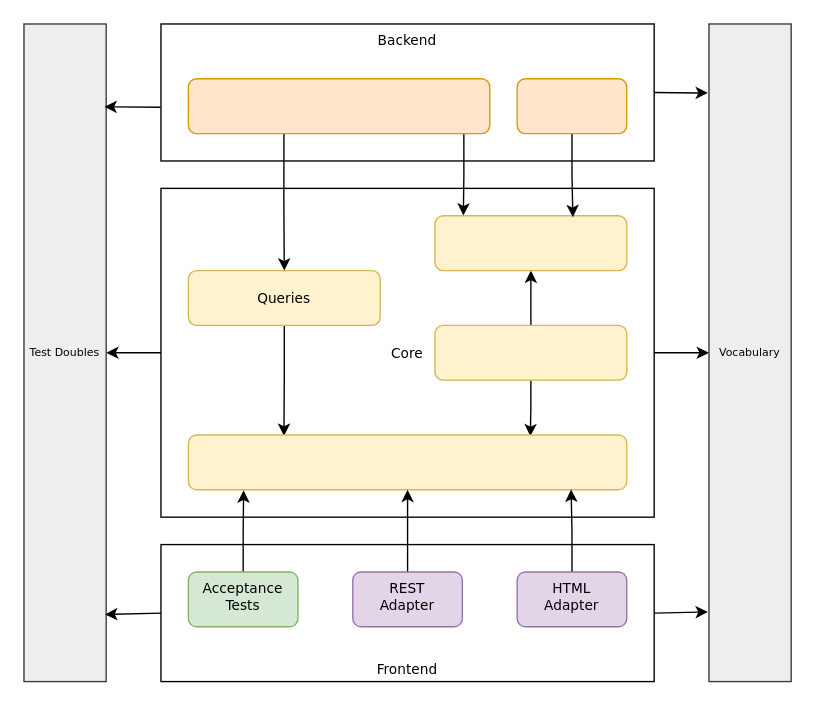
This 815x706 diagram has some shape labels left out. Here are the shapes that lost their labels. From the top down, the centre of each, then its label:
pixel 338 105: PostgreSQL Adapter
pixel 571 105: RabbitMQ Adapter
pixel 530 242: Domain
pixel 530 352: Mutators
pixel 407 462: API
